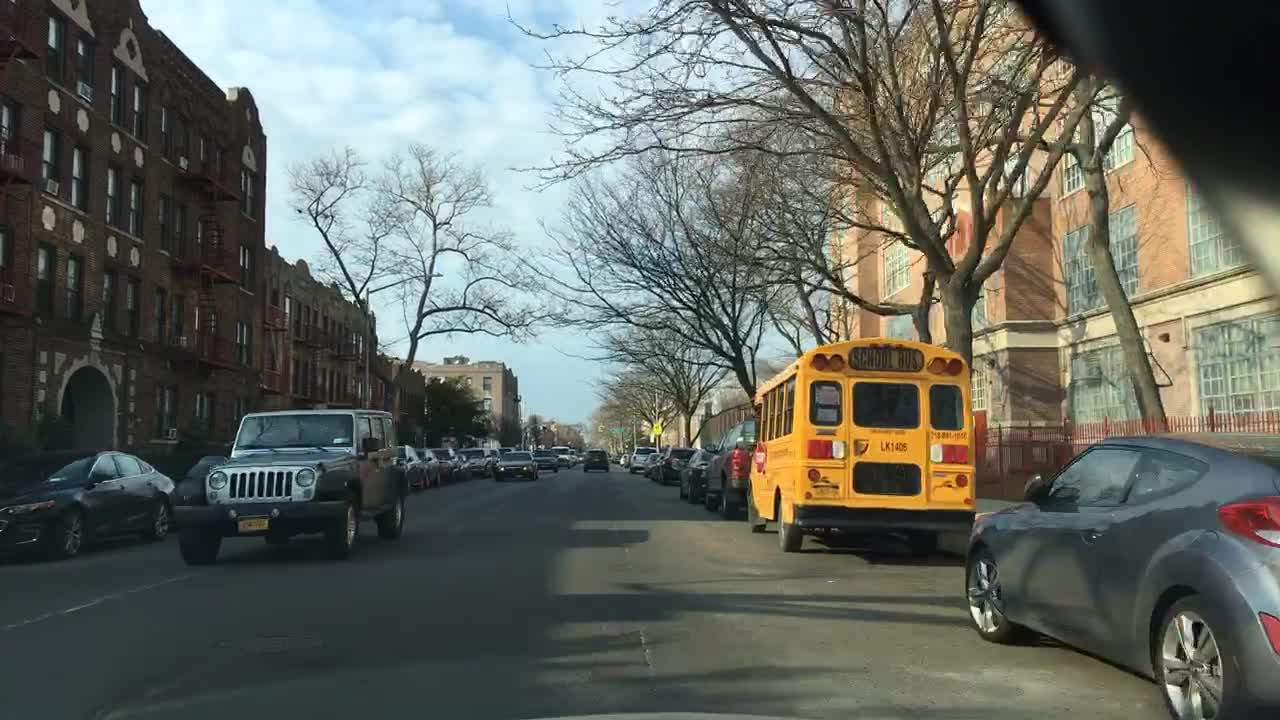bus: (741, 337, 973, 551)
car: (961, 429, 1277, 718), (170, 407, 407, 564), (0, 446, 172, 564), (703, 417, 754, 517), (678, 445, 711, 500), (393, 445, 431, 492), (493, 448, 539, 479), (660, 445, 694, 482), (434, 445, 467, 479), (415, 446, 443, 486), (581, 449, 609, 475), (460, 446, 484, 473), (486, 446, 512, 470), (551, 445, 578, 467), (631, 445, 658, 467), (537, 451, 562, 473), (641, 449, 661, 476), (570, 448, 586, 464), (620, 453, 631, 467)
traffic light: (594, 421, 602, 435), (539, 420, 544, 432)
traffic sign: (653, 421, 663, 438), (609, 429, 628, 434)
